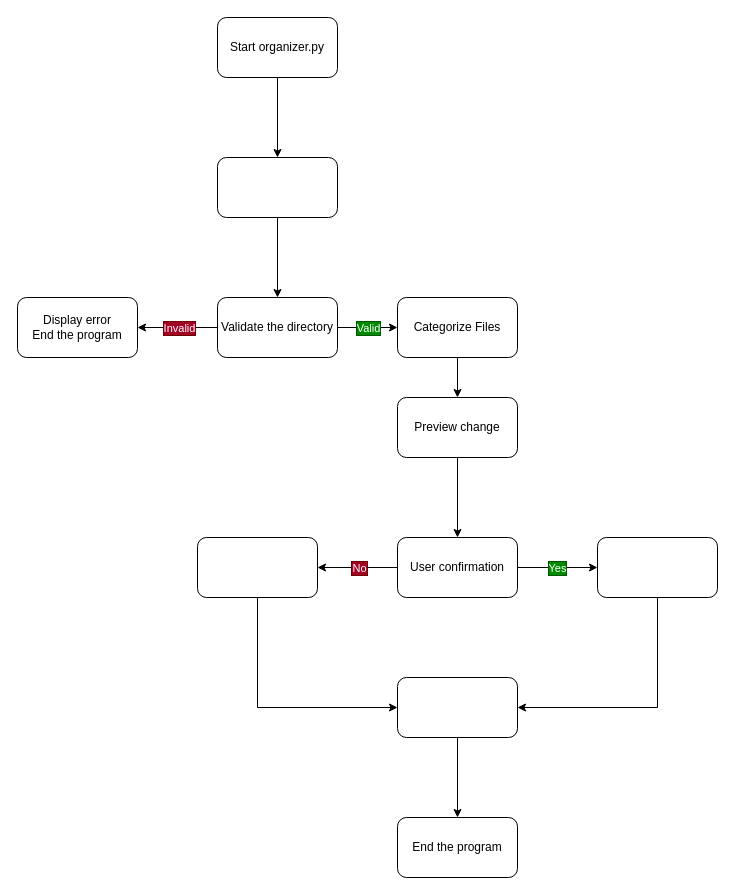
The diagram is 735 pixels wide and 895 high, and some of its shapes have lost their labels. Here are the shapes that lost their labels. From the top down, the centre of each, then its label:
At point 277,187: "Select directory".
At point 257,567: "Cancel".
At point 657,567: "Move files".
At point 457,707: "Display result".
